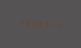eight: (29, 19, 34, 27)
nine: (41, 20, 46, 28)
one: (47, 20, 52, 28)
seven: (17, 18, 22, 27)
three: (35, 19, 40, 28)
two: (53, 20, 58, 28)
zero: (23, 19, 28, 27)
